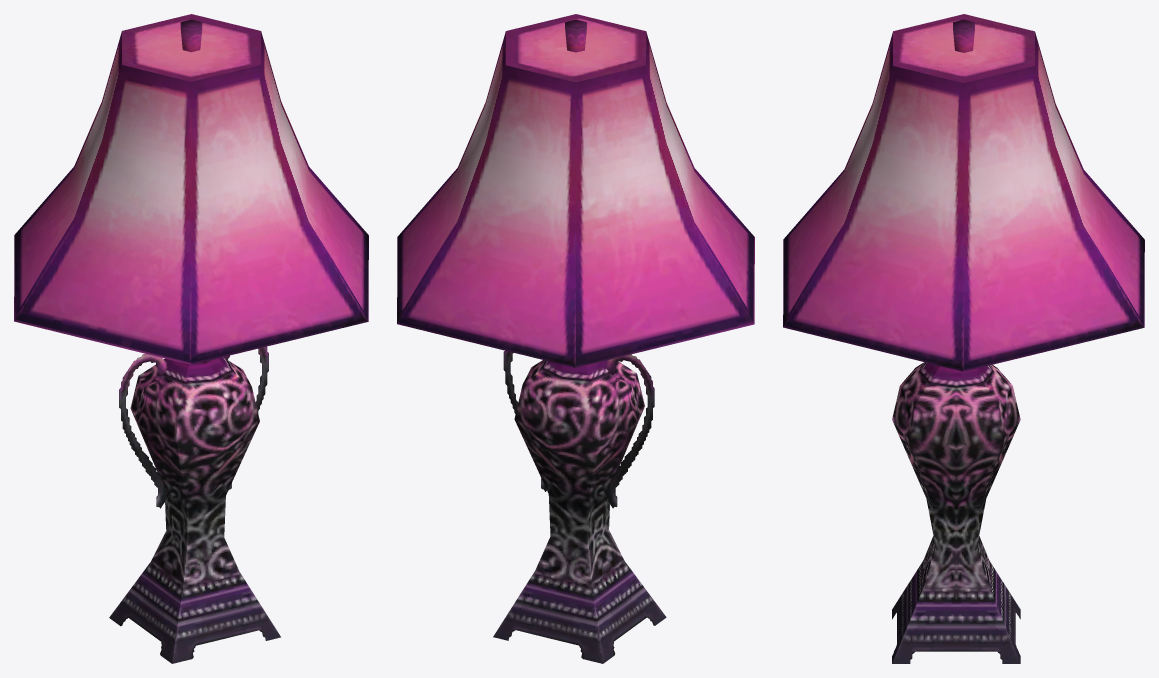
The model's file is furni_0201200_02.FBX.
3 views of the same model, side by side, from view 1: azimuth 30°, elevation 25°; view 2: azimuth 150°, elevation 25°; view 3: azimuth 270°, elevation 25° (orthographic).
Visible parts, largest first — view 1: furni_0201200_02; view 2: furni_0201200_02; view 3: furni_0201200_02.
Part boxes in pixels (box(x1,y1,x2,y2)): furni_0201200_02: box(14, 14, 368, 663); furni_0201200_02: box(397, 14, 754, 663); furni_0201200_02: box(783, 14, 1144, 663).
Bounding box in the file's own units: 59.47 × 96.18 × 51.55.
